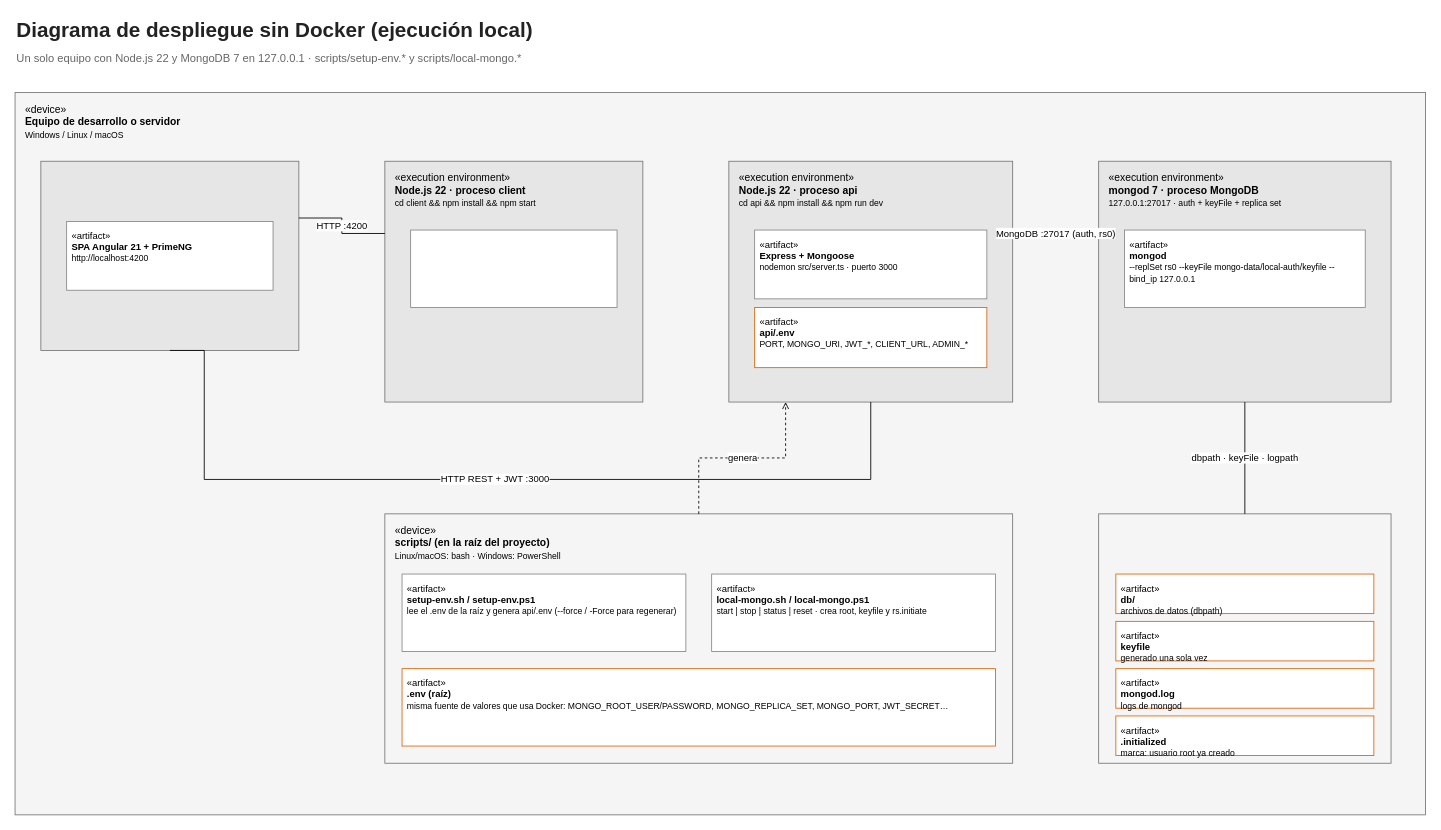
This 1441x830 diagram has some shape labels left out. Here are the shapes that lost their labels. From the top down, the box of each, then its label:
(40, 160, 299, 350): «execution environment» Navegador web
(410, 229, 617, 307): «artifact» Angular dev server ng serve · puerto 4200
(1098, 513, 1391, 763): «device» Disco local mongo-data/local-auth/
